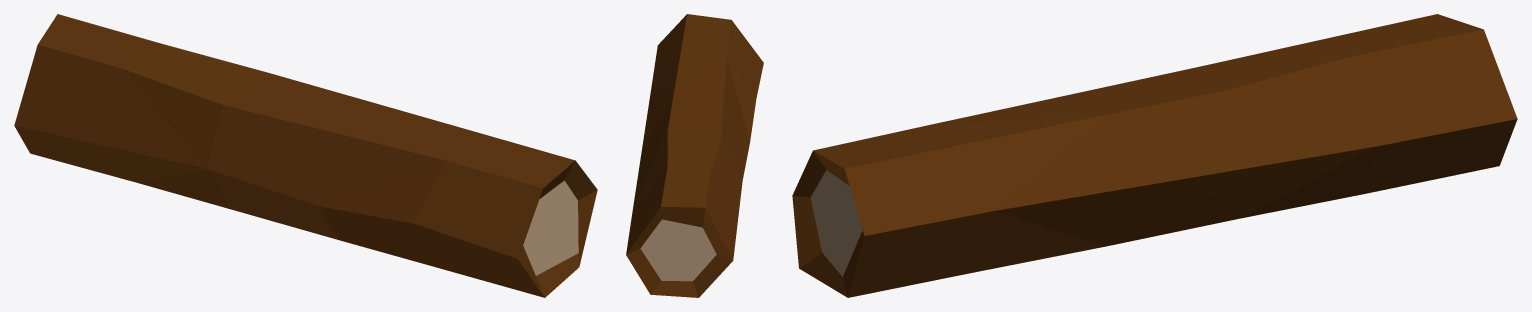
Rendered from log.fbx.
3 views of the same model, side by side, from view 1: azimuth 30°, elevation 25°; view 2: azimuth 150°, elevation 25°; view 3: azimuth 270°, elevation 25° (orthographic). The views are drawn at different scales.
Visible parts, largest first — view 1: log.051; view 2: log.051; view 3: log.051.
Part boxes in pixels (box(x1,y1,x2,y2)): log.051: box(14, 14, 597, 297); log.051: box(626, 14, 763, 297); log.051: box(792, 14, 1517, 297).
Size of the model in its own units: 2425 by 523 by 1527.
